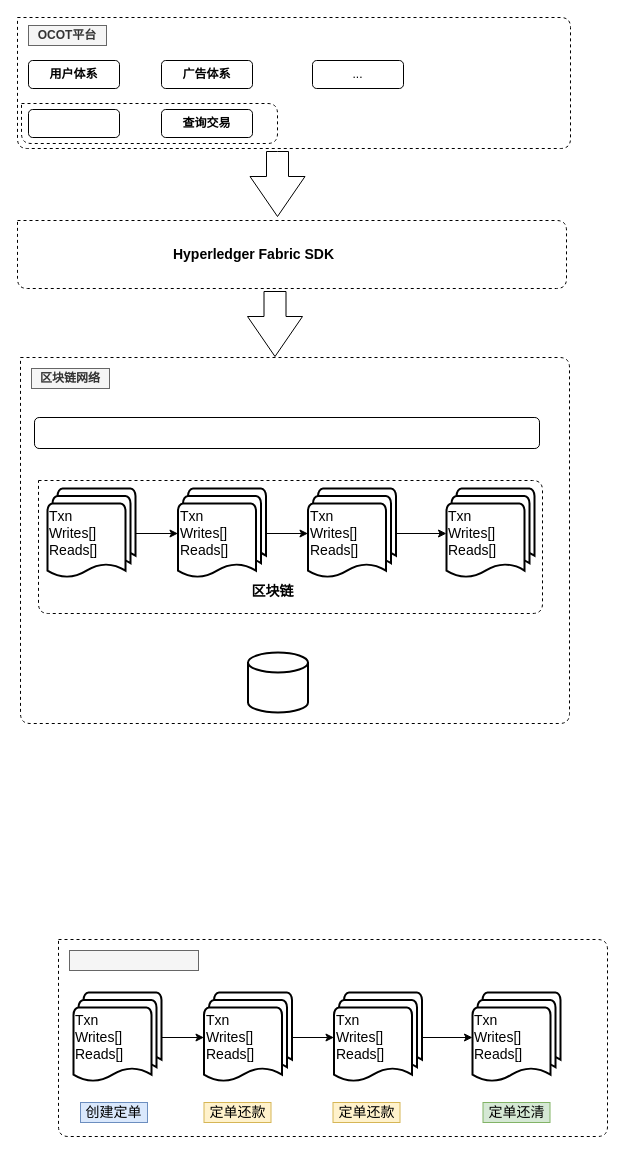
The diagram is 626 pixels wide and 1155 high, and some of its shapes have lost their labels. Here are the shapes that lost their labels. From the top down, the box of each, then its label:
(28, 108, 120, 138): 创建交易
(34, 416, 540, 448): 智能合约
(246, 651, 308, 713): LevelDB
(68, 950, 198, 970): 交易账单生命周期
